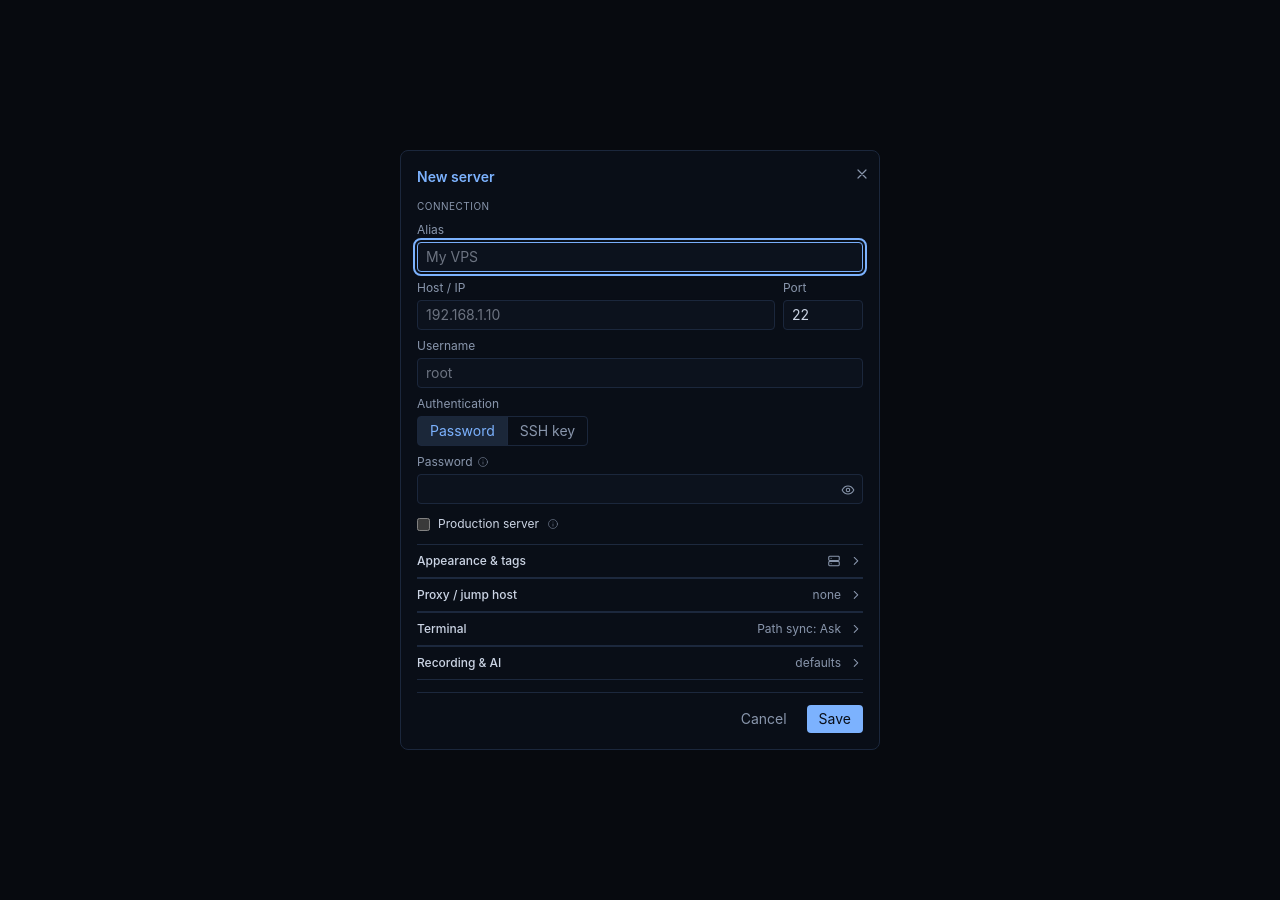
Scenario: ServerFormModal validation › re-opening the form starts without stale validation errors
Click the button with test id "save-server" at (835, 719), box [807,705,863,733]
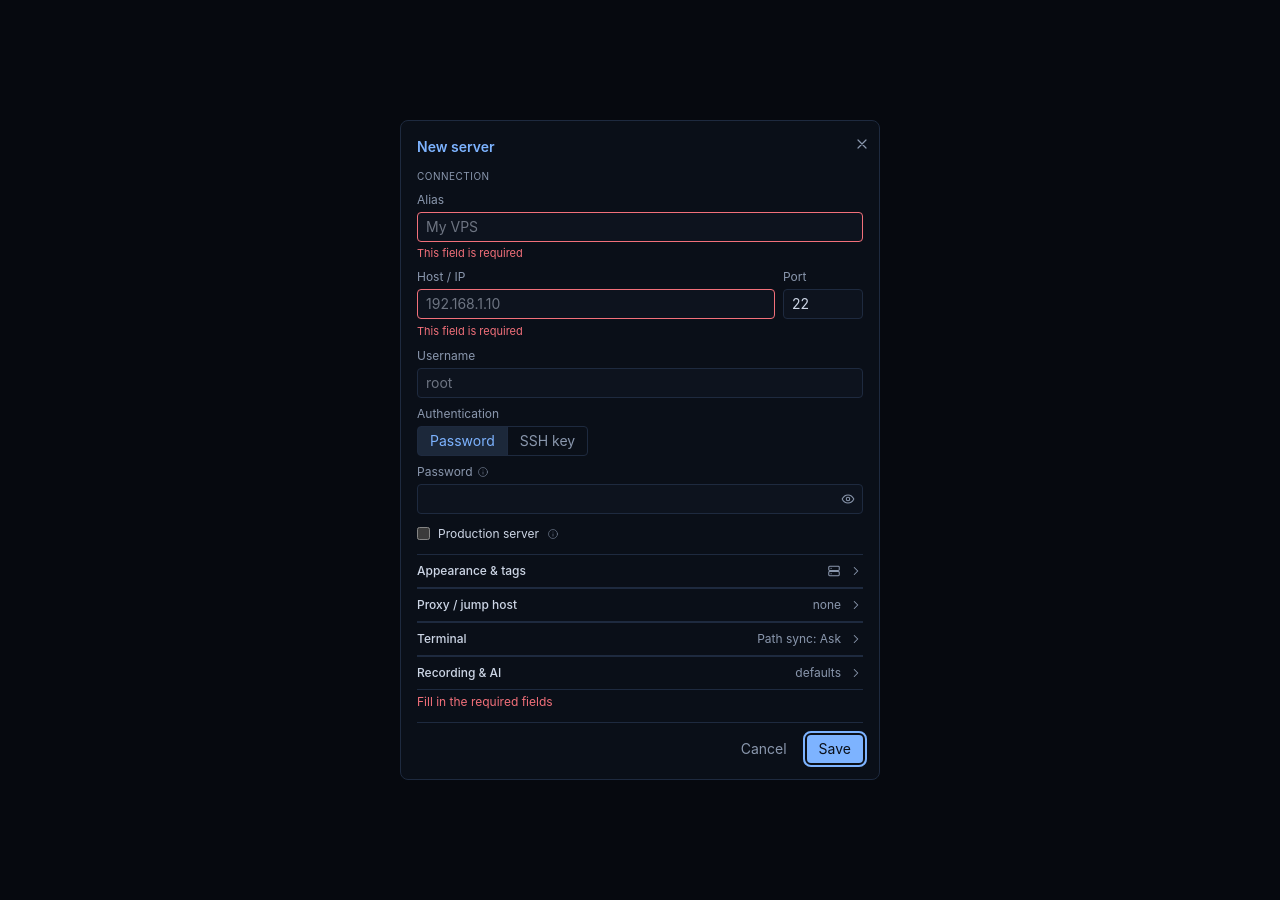
Check: the text "This field is required" is shown 2 times, box [417,246,523,260]; [417,324,523,338]
